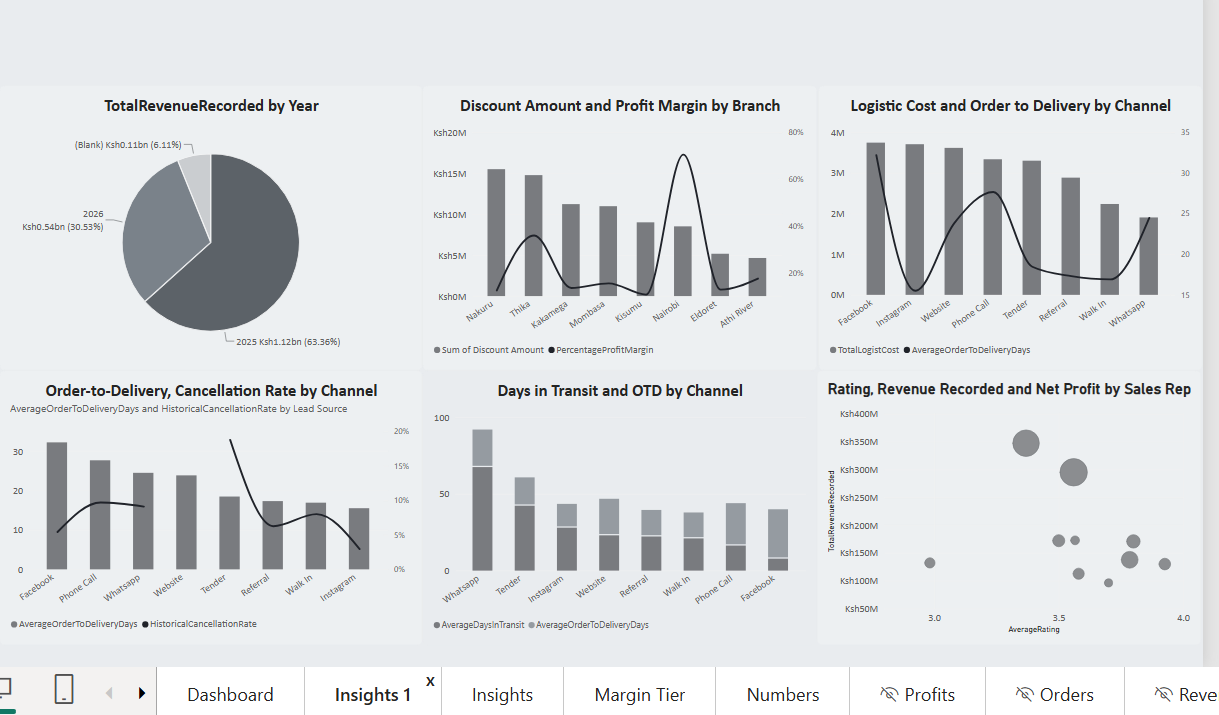

What the dashboard file says about the page in this screenshot:
{"tool":"powerbi","page":{"name":"Insights 1","canvas":[1920,1080],"ordinal":1},"visuals":[{"type":"pieChart","fields":{"Category":["DimDateTable.Year"],"Y":["FactOrders.TotalRevenueRecorded"]},"box":[7.2,155.1,672.8,453.3],"z":0},{"type":"lineStackedColumnComboChart","title":"Order-to-Delivery, Cancellation Rate by Channel","fields":{"Category":["FactOrders.Lead Source"],"Y":["FactOrders.AverageOrderToDeliveryDays"],"Y2":["FactOrders.HistoricalCancellationRate"]},"box":[7.2,608.4,672.8,436.6],"z":1000},{"type":"lineStackedColumnComboChart","title":"Discount Amount and Profit Margin by Branch","fields":{"Category":["DimBranches.Branch"],"Y":["Sum(FactOrders.Discount Amount)"],"Y2":["FactOrders.PercentageProfitMargin"]},"box":[680,155.1,627.5,453.3],"z":2001},{"type":"columnChart","title":"Days in Transit and OTD by Channel","fields":{"Category":["FactOrders.Lead Source"],"Y":["FactOrders.AverageDaysInTransit","FactOrders.AverageOrderToDeliveryDays"]},"box":[680,608.4,627.5,436.6],"z":2002},{"type":"lineClusteredColumnComboChart","title":"Logistic Cost and Order to Delivery by Channel","fields":{"Category":["FactOrders.Lead Source"],"Y":["FactOrders.TotalLogistCost"],"Y2":["FactOrders.AverageOrderToDeliveryDays"]},"box":[1309.9,155.1,610.8,453.3],"z":2003},{"type":"scatterChart","title":"Rating, Revenue Recorded and Net Profit by Sales Rep","fields":{"Category":["DimSaleReps.Sales Rep"],"Size":["FactOrders.TotalNetProfit"],"X":["FactOrders.AverageRating"],"Y":["FactOrders.TotalRevenueRecorded"]},"box":[1307.5,608.4,610.8,436.6],"z":2005}]}

Visuals, with their boxes on the page's 1920x1080 design canvas (x1, y1, x2, y2). These are canvas units, not pixel positions in the 1219x715 screenshot, which may show the page scaled, cropped or inside an application window:
pieChart - DimDateTable.Year x FactOrders.TotalRevenueRecorded: {"x1": 7, "y1": 155, "x2": 680, "y2": 608}
"Order-to-Delivery, Cancellation Rate by Channel" lineStackedColumnComboChart: {"x1": 7, "y1": 608, "x2": 680, "y2": 1045}
"Discount Amount and Profit Margin by Branch" lineStackedColumnComboChart: {"x1": 680, "y1": 155, "x2": 1308, "y2": 608}
"Days in Transit and OTD by Channel" columnChart: {"x1": 680, "y1": 608, "x2": 1308, "y2": 1045}
"Logistic Cost and Order to Delivery by Channel" lineClusteredColumnComboChart: {"x1": 1310, "y1": 155, "x2": 1921, "y2": 608}
"Rating, Revenue Recorded and Net Profit by Sales Rep" scatterChart: {"x1": 1308, "y1": 608, "x2": 1918, "y2": 1045}
